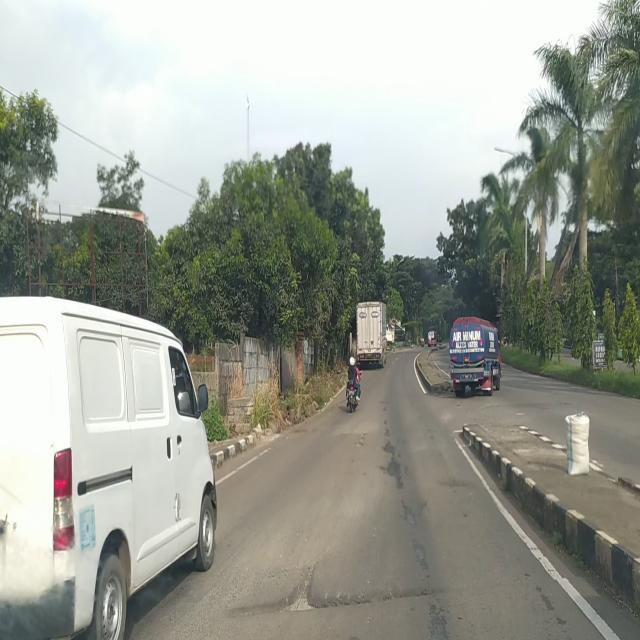Sewer Cover: (221, 590, 441, 620)
